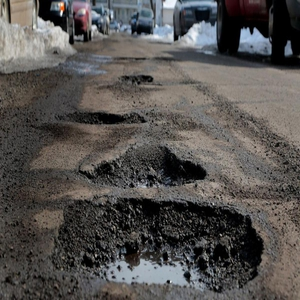pothole: (57, 199, 267, 296), (93, 145, 208, 191), (53, 110, 145, 128), (118, 74, 154, 87)
